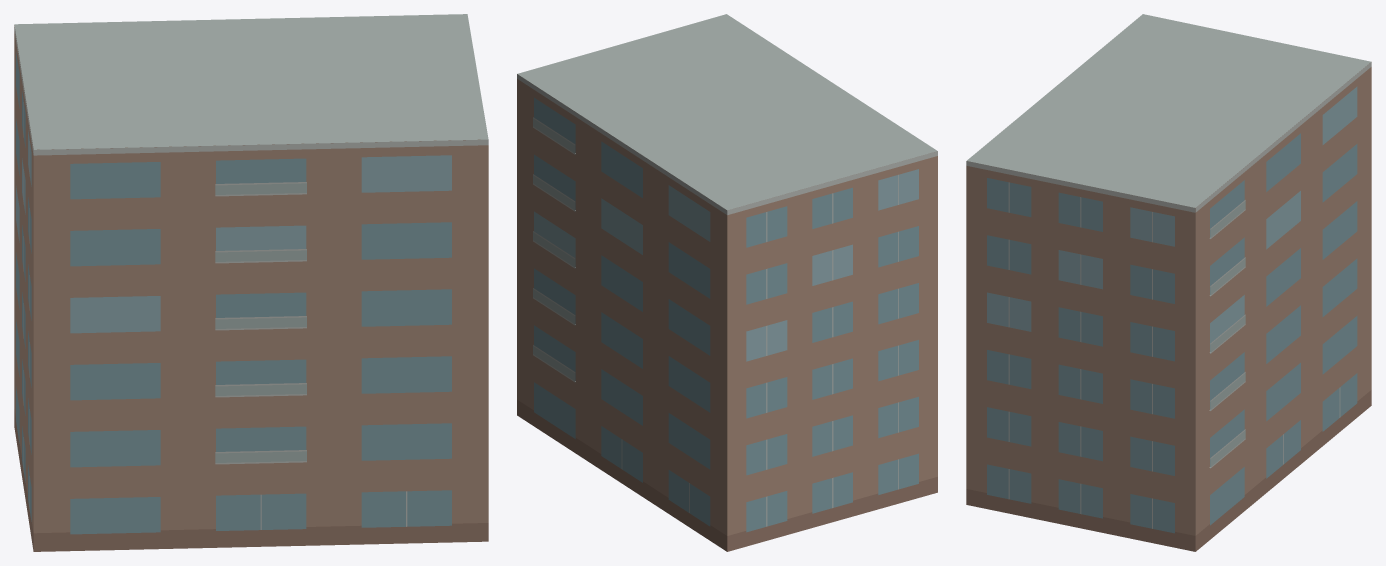
Rendered from survey-upis-33020519.glb.
3 renders of one model, left to right at view 1: azimuth 30°, elevation 25°; view 2: azimuth 150°, elevation 25°; view 3: azimuth 270°, elevation 25°, orthographic. The views are drawn at different scales.
Visible parts, largest first — view 1: survey-upis-33020519.tmp; view 2: survey-upis-33020519.tmp; view 3: survey-upis-33020519.tmp.
Part boxes in pixels (x1,y1,x2,y2): survey-upis-33020519.tmp: [14, 14, 488, 551]; survey-upis-33020519.tmp: [517, 14, 937, 551]; survey-upis-33020519.tmp: [966, 14, 1371, 551].
Size of the model in its own units: 20.81 by 17.2 by 18.37.
